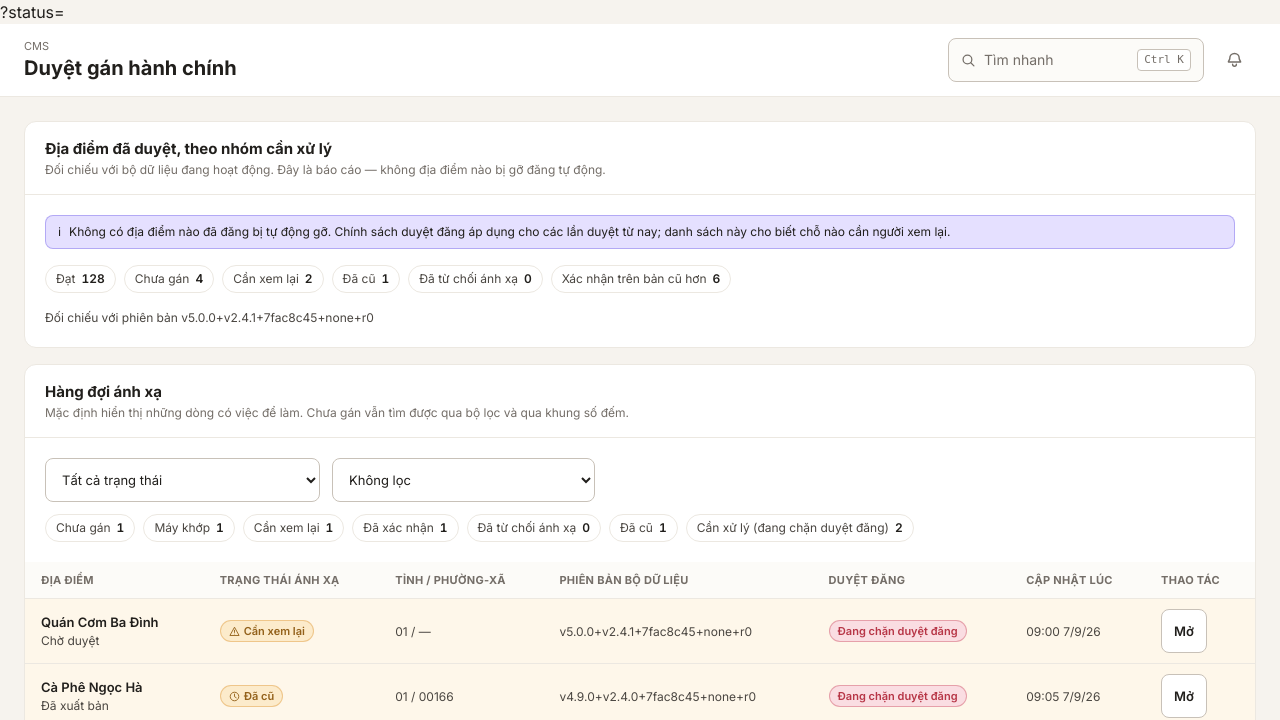
what each role may do › shows an editor the blocker and no decision at all
Click the button "Mở" in the row of "Quán Cơm Ba Đình". click: (1184, 631)
box: [1161,609,1207,653]
(page scrolled)
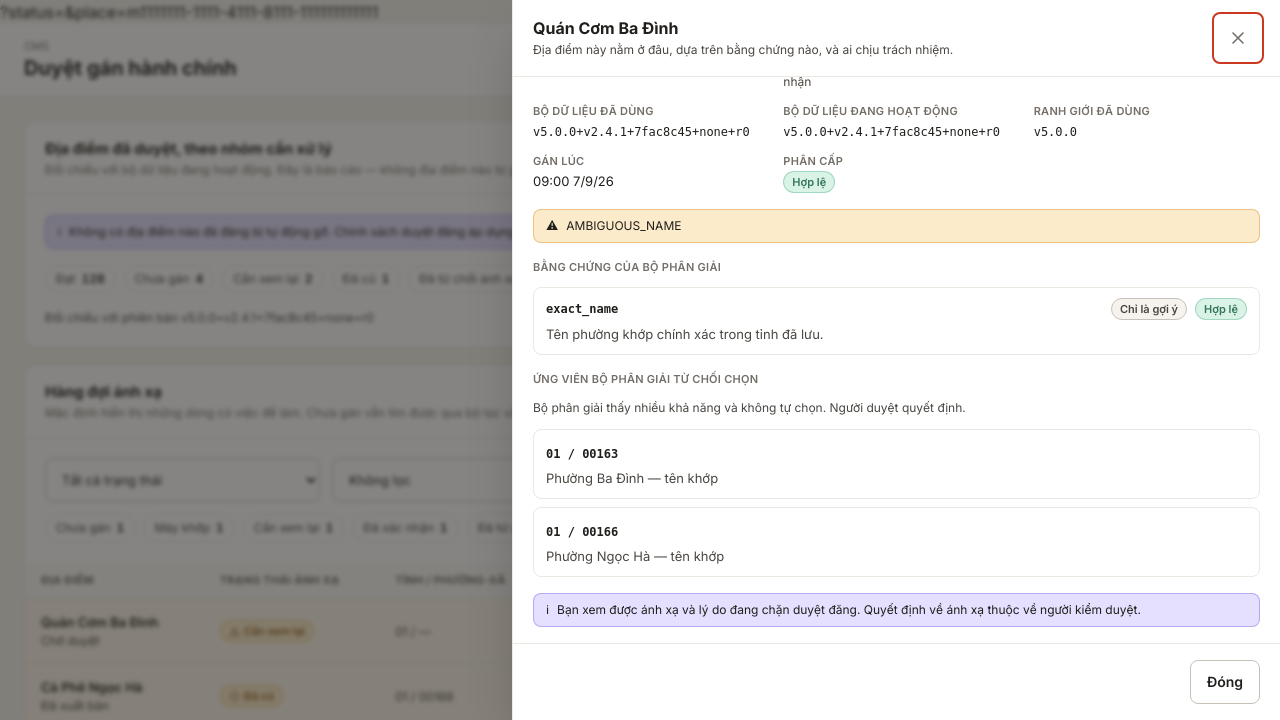
Now the text "Quyết định về ánh xạ thuộc về người kiểm duyệt" is shown, box [557,602,1141,617]
